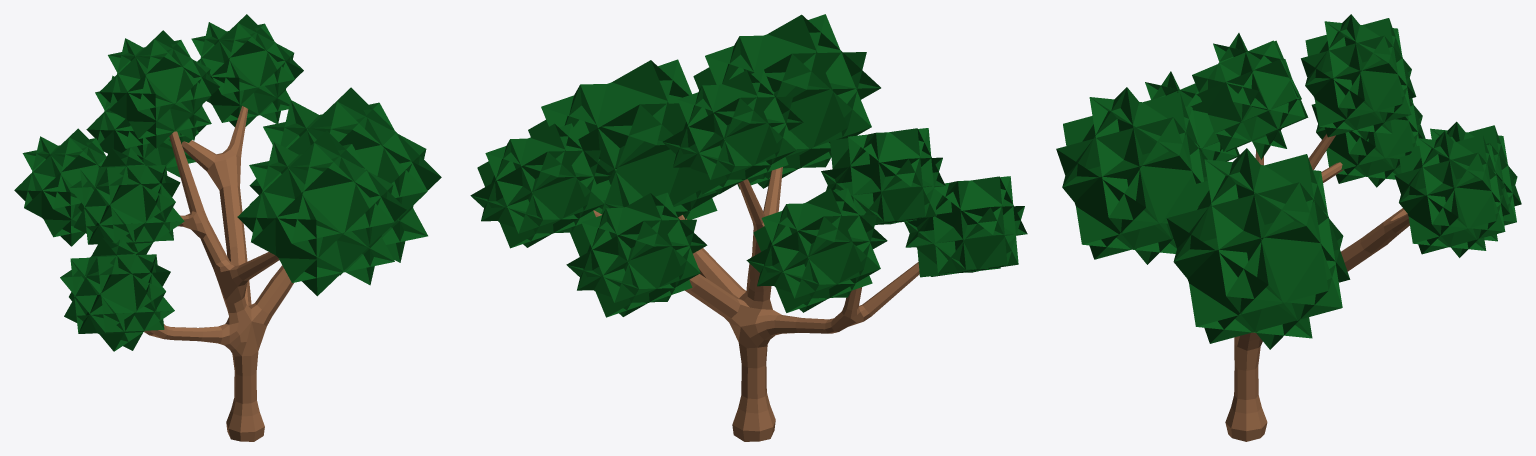
File: Tree_4.glb
3 renders of one model, left to right at view 1: azimuth 30°, elevation 25°; view 2: azimuth 150°, elevation 25°; view 3: azimuth 270°, elevation 25°, orthographic. The views are drawn at different scales.
Visible parts, largest first — view 1: Tree 4; view 2: Tree 4; view 3: Tree 4.
Boxes of the visible parts, x1,y1,x2,y2 form: Tree 4: (14,14,441,441); Tree 4: (470,14,1027,441); Tree 4: (1056,14,1521,441).
Bounding box in the file's own units: 2.01 × 1.83 × 1.92.
